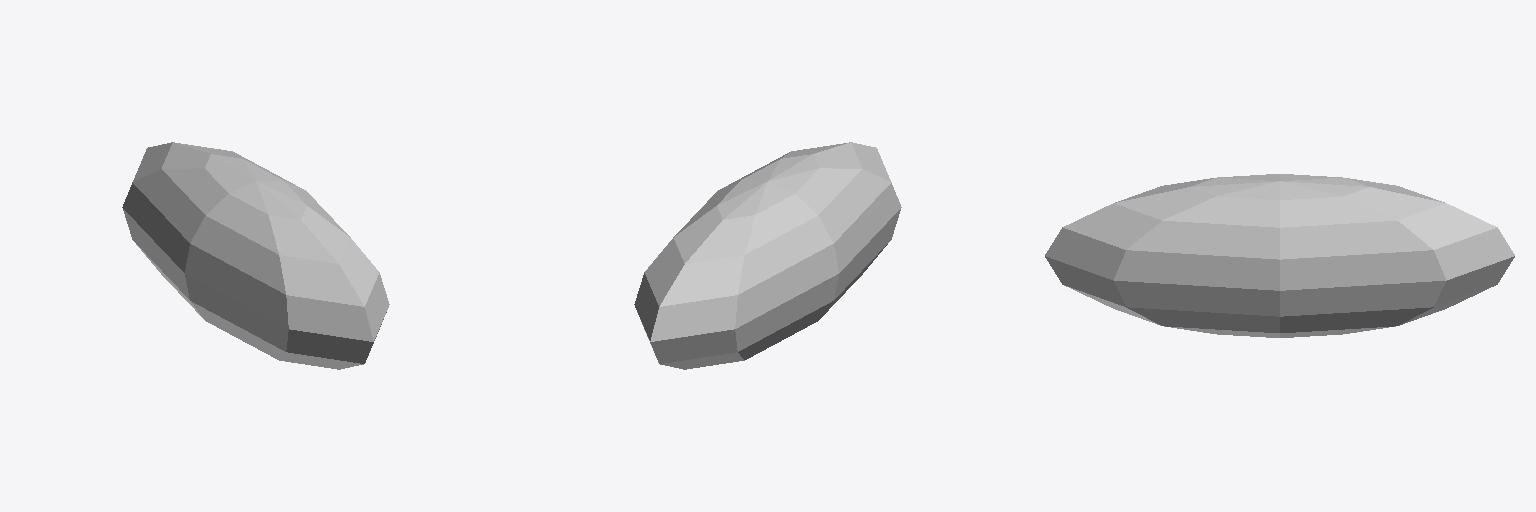
File: Shell.obj
The picture shows the model from 3 angles: view 1: azimuth 30°, elevation 25°; view 2: azimuth 150°, elevation 25°; view 3: azimuth 270°, elevation 25°; orthographic projection.
Parts seen in each view (by area): view 1: Shell; view 2: Shell; view 3: Shell.
Boxes of the visible parts, x1=… form: Shell: x1=122, y1=142, x2=389, y2=369; Shell: x1=634, y1=142, x2=901, y2=369; Shell: x1=1045, y1=174, x2=1514, y2=337.
Bounding box in the file's own units: 0.7 × 0.7 × 2.